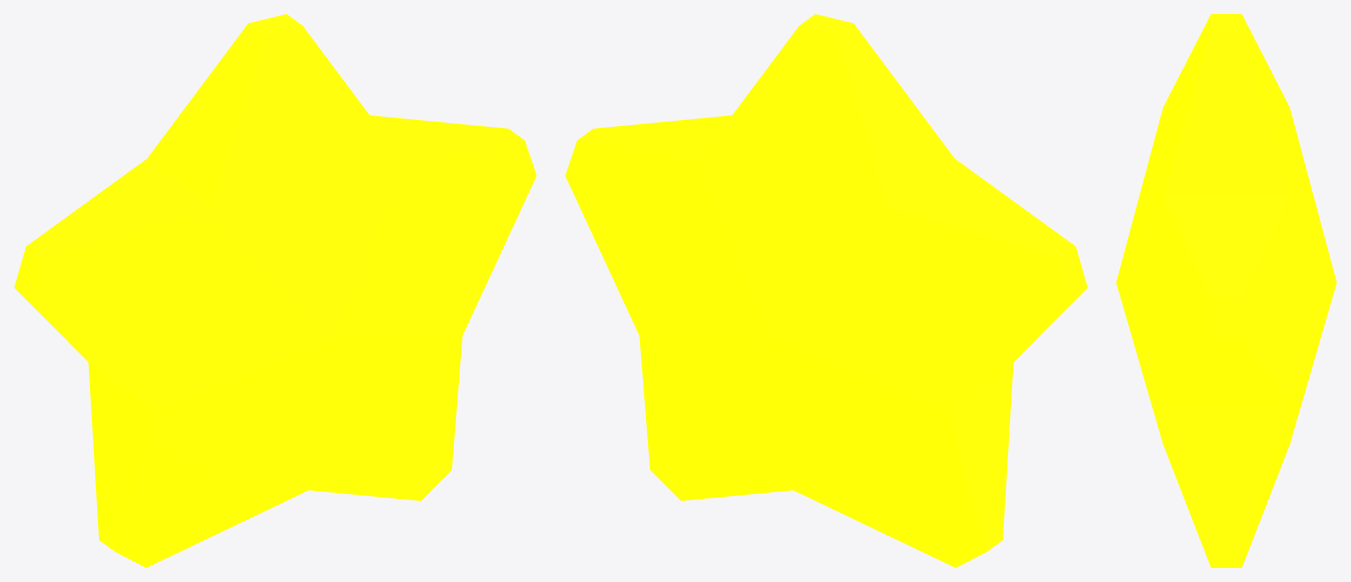
Rendered from star.fbx.
The picture shows the model from 3 angles, left to right: view 1: azimuth 30°, elevation 25°; view 2: azimuth 150°, elevation 25°; view 3: azimuth 270°, elevation 25°; orthographic projection. The views are drawn at different scales.
Visible parts, largest first — view 1: star; view 2: star; view 3: star.
Boxes of the visible parts, left/top/right/bottom form: star: left=14, top=14, right=536, bottom=567; star: left=565, top=14, right=1087, bottom=567; star: left=1116, top=14, right=1336, bottom=567.
Size of the model in its own units: 85.16 by 80.99 by 33.67.
